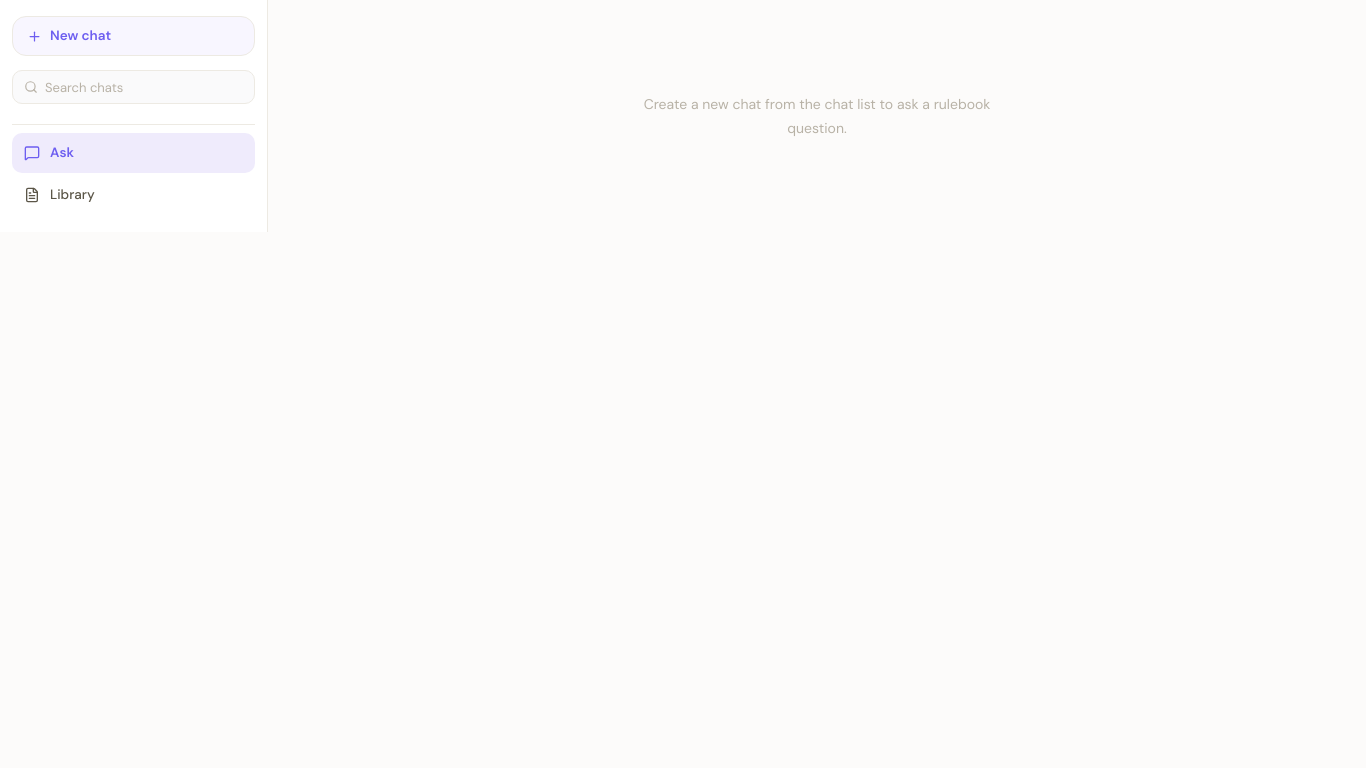
it: ChatPage › creates and activates a server chat from the button
This screenshot has width=1366, height=768.
Click the button with test id "ask-new-chat-btn" at [134, 36], box [12,16,255,56]
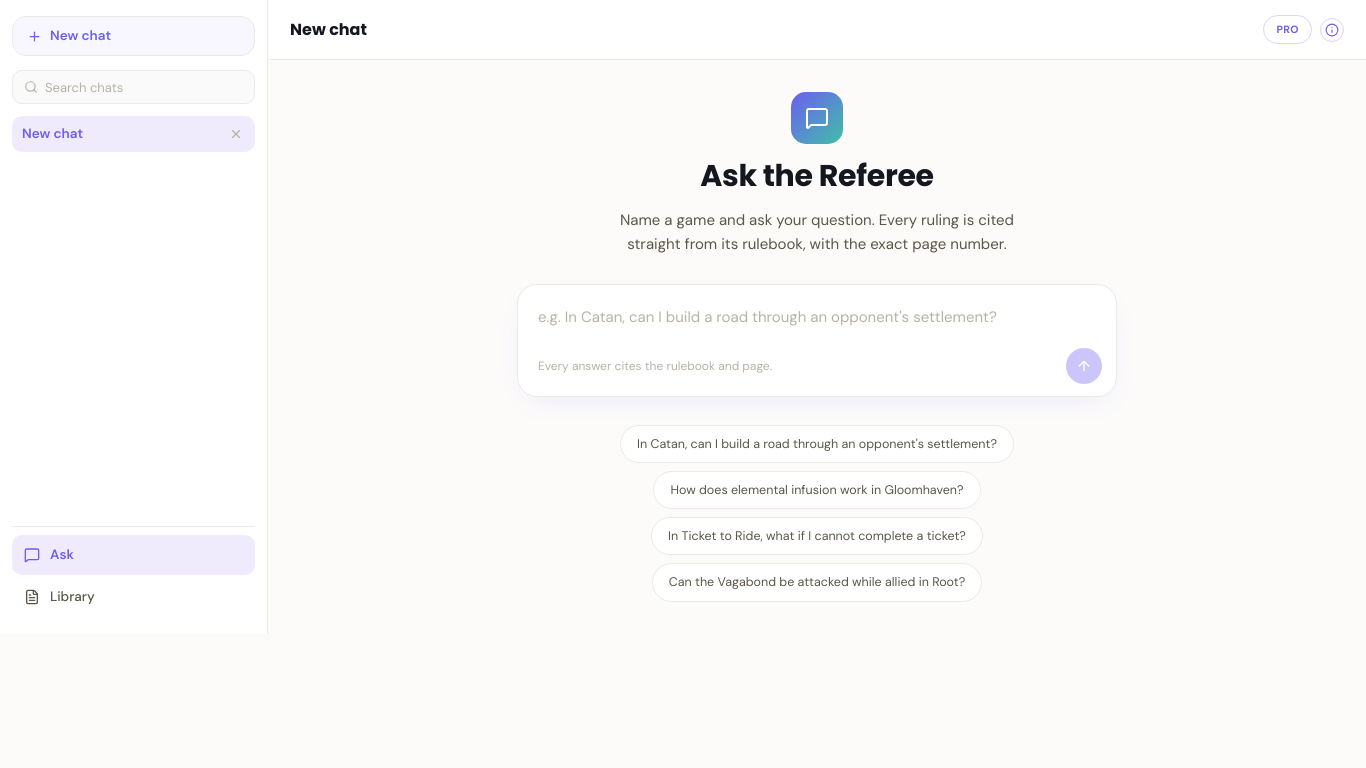
Now the heading "Ask the Referee" is shown, box [700,158,934,196]
Now the text box named "Ask a rules question" is shown, box [532,298,1102,334]
